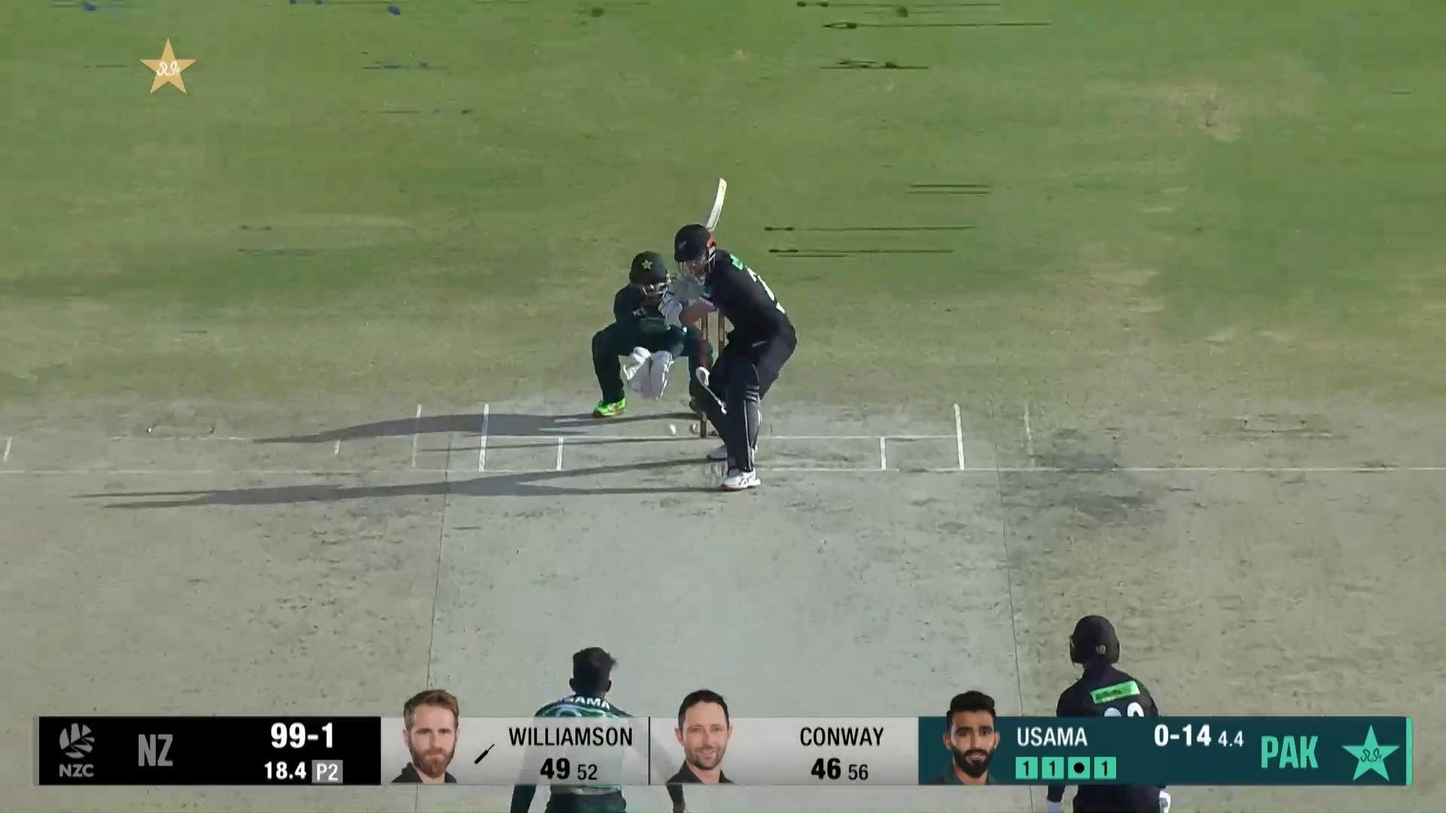BM 1: (658, 177, 799, 491)
BO: (508, 645, 694, 813)
